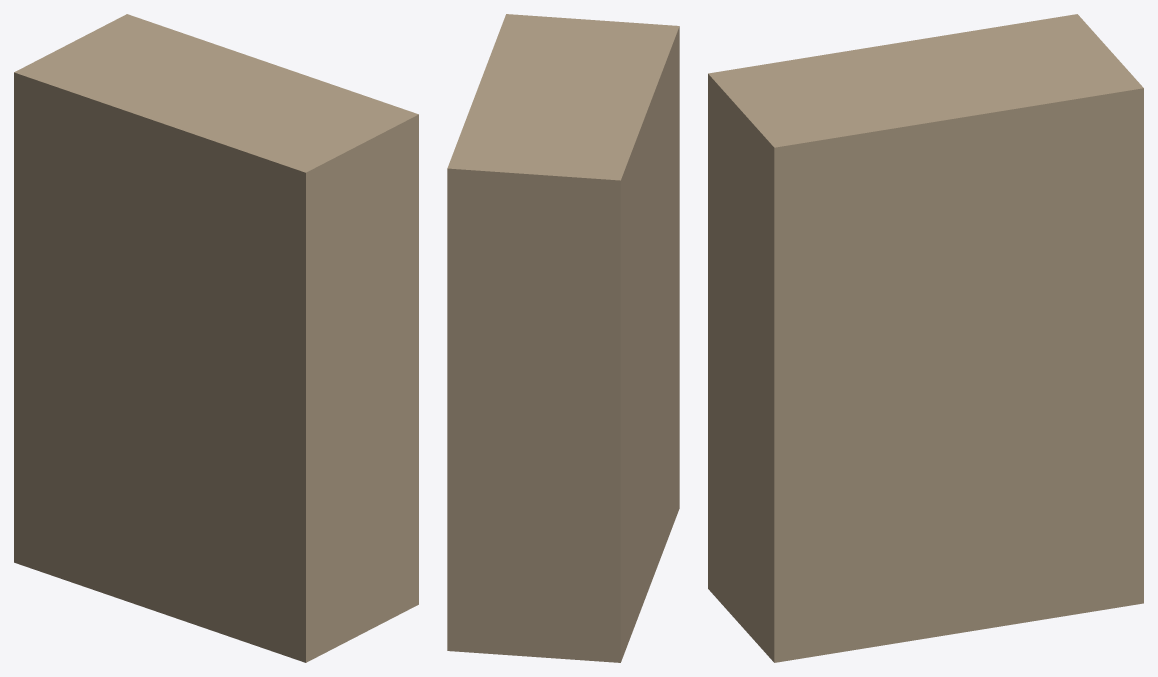
File: bld_106796662.dae
The picture shows the model from 3 angles, left to right: view 1: azimuth 30°, elevation 25°; view 2: azimuth 150°, elevation 25°; view 3: azimuth 270°, elevation 25°; orthographic projection. The views are drawn at different scales.
Parts seen in each view (by area): view 1: bld_106796662; view 2: bld_106796662; view 3: bld_106796662.
Boxes of the visible parts, bbox=[...] form: bld_106796662: bbox=[14, 14, 418, 662]; bld_106796662: bbox=[447, 14, 679, 662]; bld_106796662: bbox=[708, 14, 1143, 662].
Size of the model in its own units: 4.45 by 6.14 by 8.
